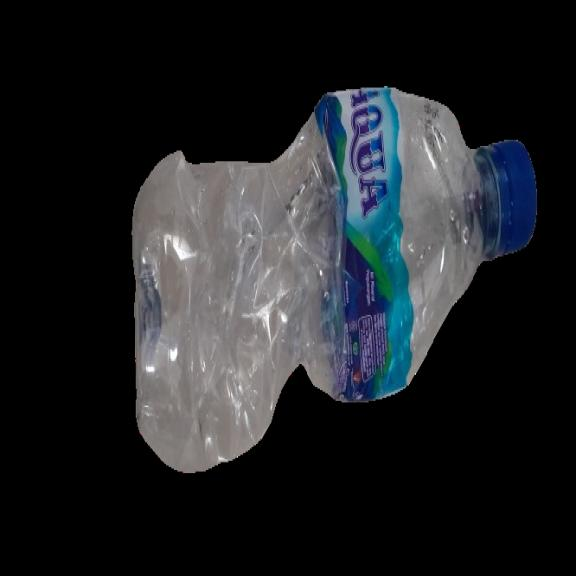Plastik: (126, 79, 541, 481)
